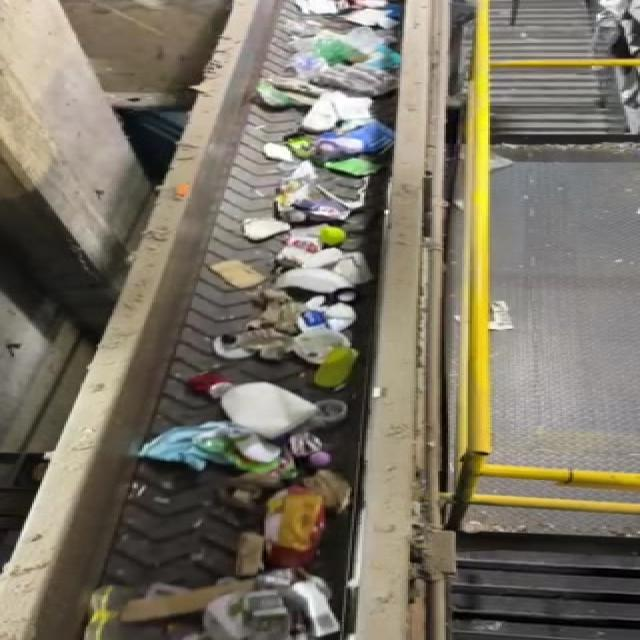hdpe: (168, 369, 336, 437)
paper: (118, 576, 365, 638), (235, 483, 338, 572), (145, 432, 302, 485)
